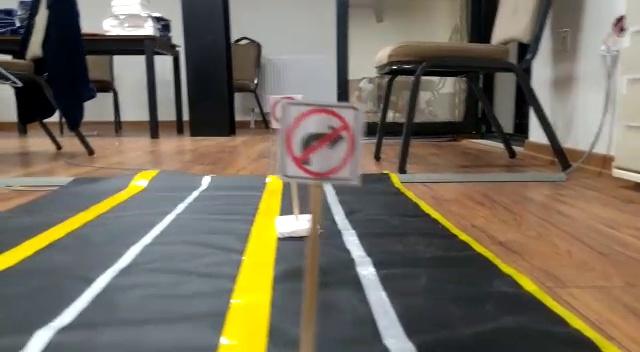saga_donulmez: (284, 104, 355, 181)
